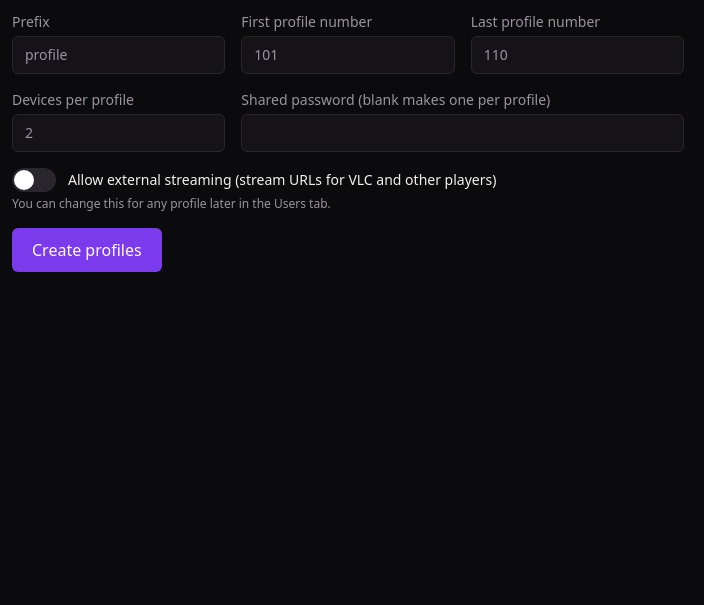
Test: RoomsTab (Profiles) › confirms how many were created
Click the button "Create profiles" at (87, 250), box [12,228,162,272]
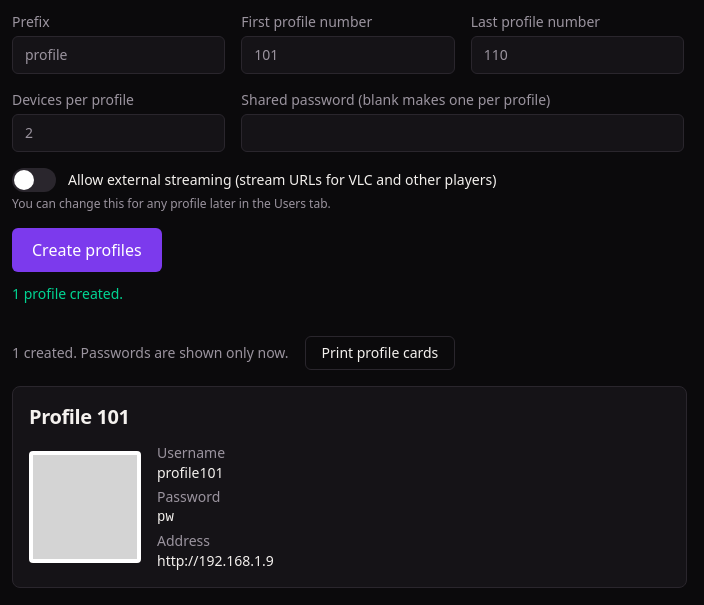
Check: the text "1 profile created." is shown, box [12,284,123,303]
Check: the heading "Profile 101" is shown, box [29,403,130,430]
